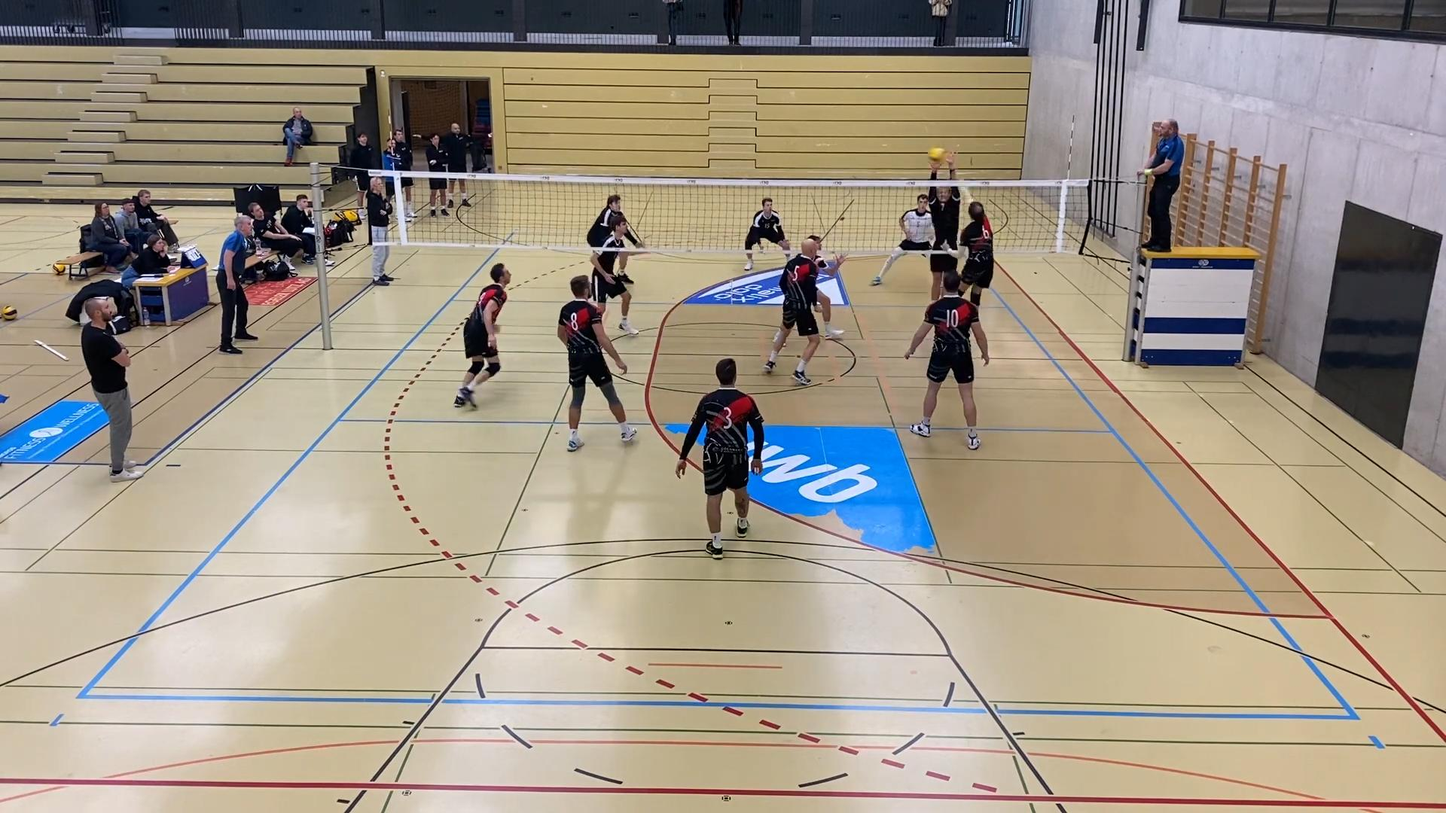attacco: (947, 179, 991, 322)
muro: (923, 158, 962, 307)
